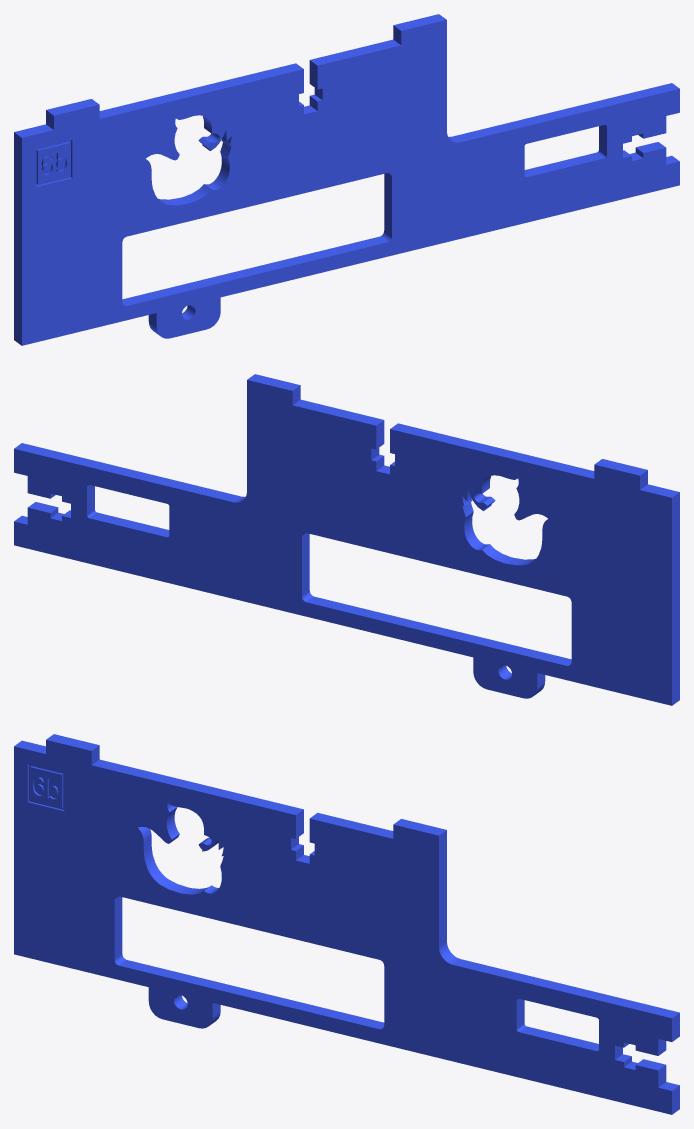
The model's file is Side_plate_right.obj.
The picture shows the model from 3 angles, top to bottom: view 1: azimuth 30°, elevation 25°; view 2: azimuth 150°, elevation 25°; view 3: azimuth 330°, elevation 25°; orthographic projection.
Visible parts, largest first — view 1: Body1; view 2: Body1; view 3: Body1.
Part boxes in pixels (x1,y1,x2,y2): Body1: [14, 14, 679, 345]; Body1: [14, 374, 679, 705]; Body1: [14, 734, 679, 1114].
Bounding box in the file's own units: 14.4 × 5.25 × 0.3.
